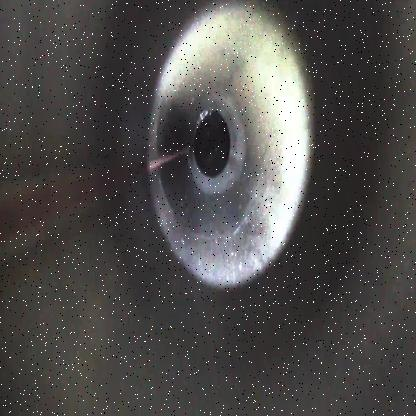NoCrack: (146, 0, 313, 289)
